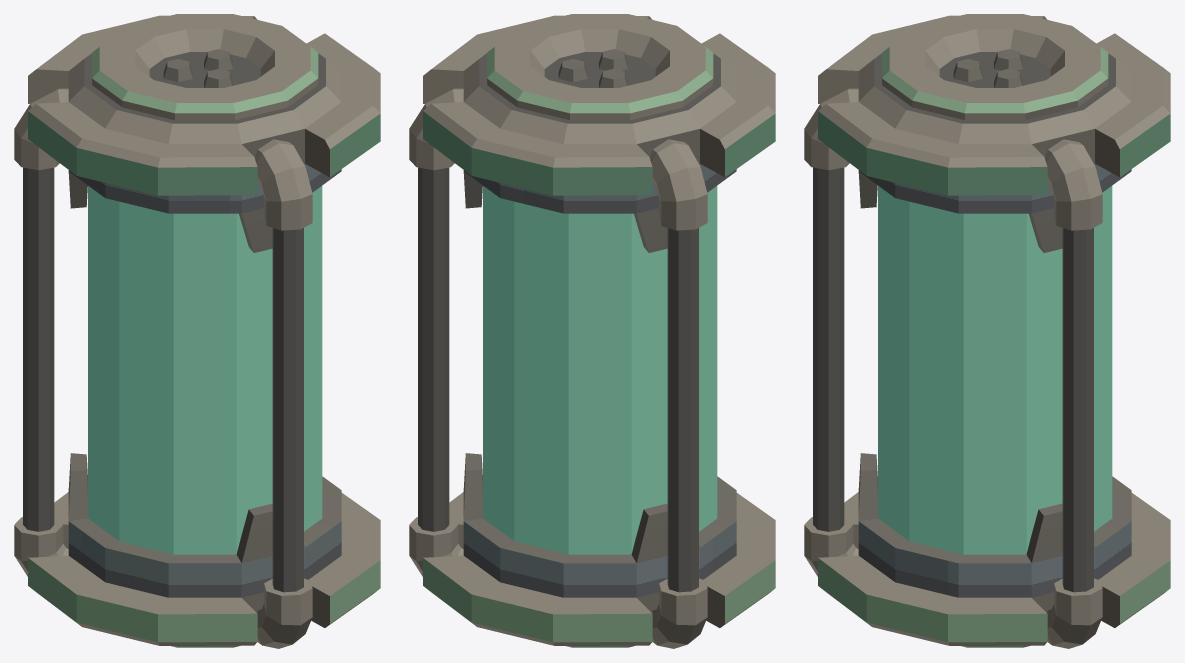
File: entity111374.glb
3 renders of one model, left to right at view 1: azimuth 30°, elevation 25°; view 2: azimuth 150°, elevation 25°; view 3: azimuth 270°, elevation 25°, orthographic.
Visible parts, largest first — view 1: node_SM_Prop_Crate_07 (11), node_SM_Prop_Crate_07_Lid_01; view 2: node_SM_Prop_Crate_07 (11), node_SM_Prop_Crate_07_Lid_01; view 3: node_SM_Prop_Crate_07 (11), node_SM_Prop_Crate_07_Lid_01.
Boxes of the visible parts, x1,y1,x2,y2 form: node_SM_Prop_Crate_07 (11): (14, 15, 380, 648); node_SM_Prop_Crate_07_Lid_01: (92, 14, 318, 120); node_SM_Prop_Crate_07 (11): (409, 15, 775, 648); node_SM_Prop_Crate_07_Lid_01: (487, 14, 713, 120); node_SM_Prop_Crate_07 (11): (804, 15, 1170, 648); node_SM_Prop_Crate_07_Lid_01: (882, 14, 1108, 120).
Size of the model in its own units: 1.04 by 1.78 by 1.08.
Materials: 1 (1 with a texture image).
